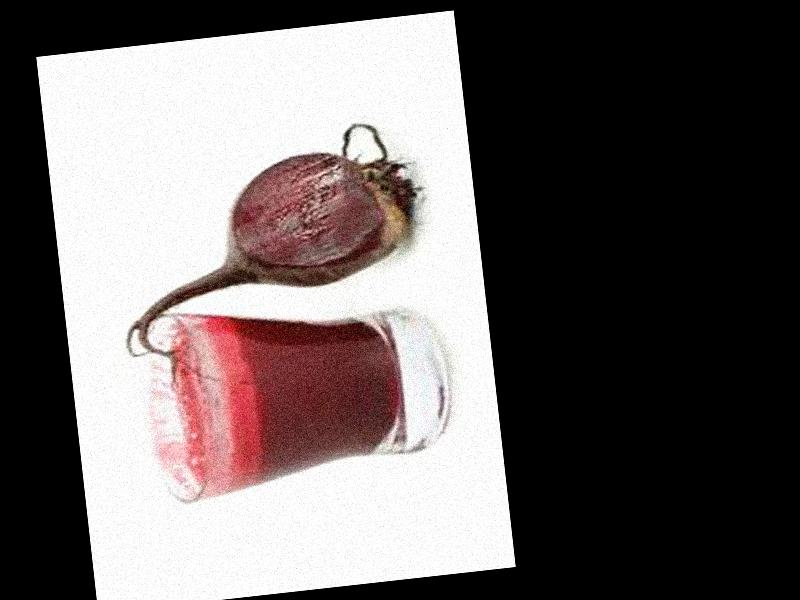Beet: (105, 119, 436, 385)
